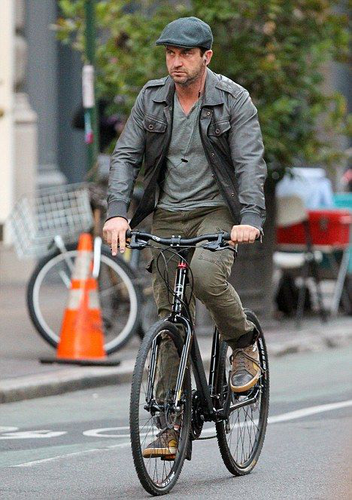bikerider: (99, 14, 290, 500)
